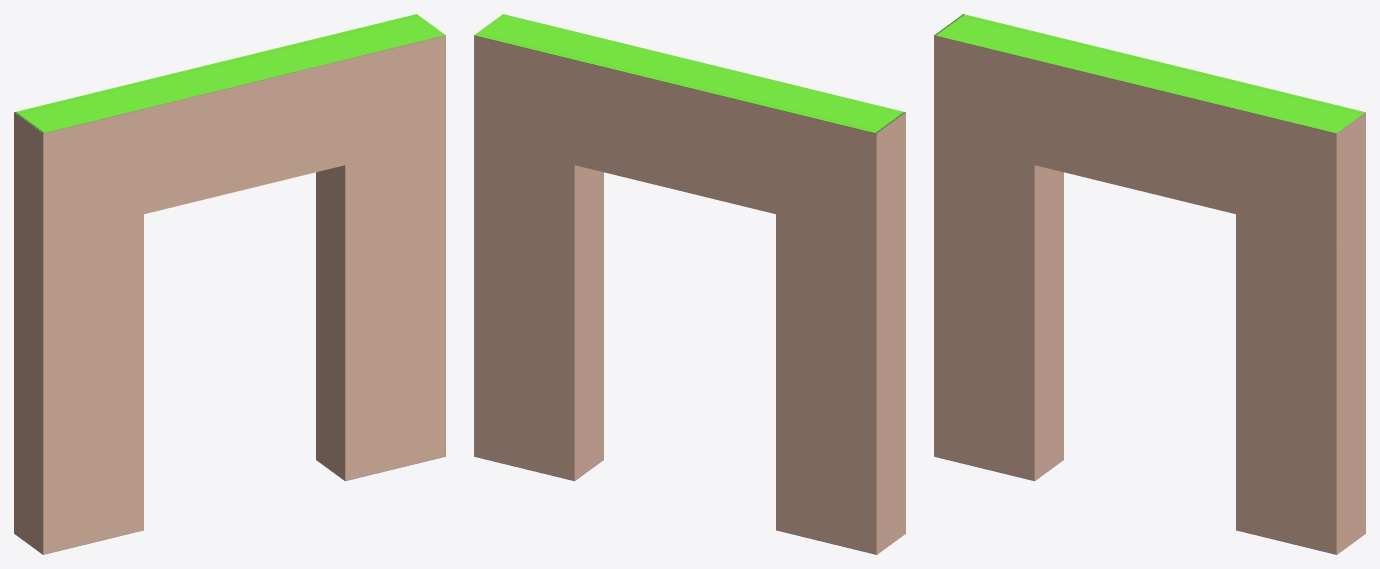
Rendered from MK_MK_Wall_Door_B.fbx.
3 views of the same model, side by side, from view 1: azimuth 30°, elevation 25°; view 2: azimuth 150°, elevation 25°; view 3: azimuth 330°, elevation 25° (orthographic).
Parts seen in each view (by area): view 1: MK_Wall_Door_B; view 2: MK_Wall_Door_B; view 3: MK_Wall_Door_B.
Boxes of the visible parts, left/top/right/bottom form: MK_Wall_Door_B: left=14, top=14, right=445, bottom=554; MK_Wall_Door_B: left=474, top=14, right=905, bottom=554; MK_Wall_Door_B: left=934, top=14, right=1365, bottom=554.
Size of the model in its own units: 180 by 180 by 22.5.
Materials: 1 (1 with a texture image).
